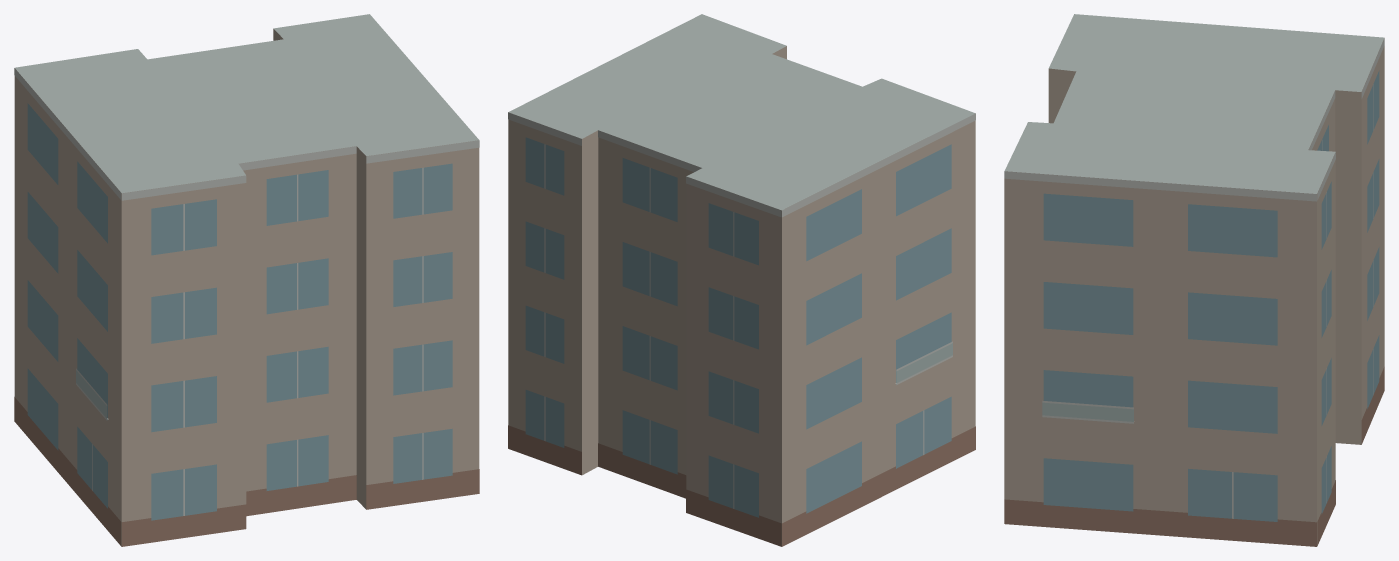
Rendered from survey-upis-32870058.glb.
The picture shows the model from 3 angles, left to right: view 1: azimuth 30°, elevation 25°; view 2: azimuth 150°, elevation 25°; view 3: azimuth 270°, elevation 25°; orthographic projection. The views are drawn at different scales.
Visible parts, largest first — view 1: survey-upis-32870058.tmp; view 2: survey-upis-32870058.tmp; view 3: survey-upis-32870058.tmp.
Part boxes in pixels (box(x1,y1,x2,y2)): survey-upis-32870058.tmp: box(14, 14, 479, 546); survey-upis-32870058.tmp: box(508, 14, 975, 546); survey-upis-32870058.tmp: box(1004, 14, 1384, 546).
Bounding box in the file's own units: 12.6 × 11.5 × 11.24.
